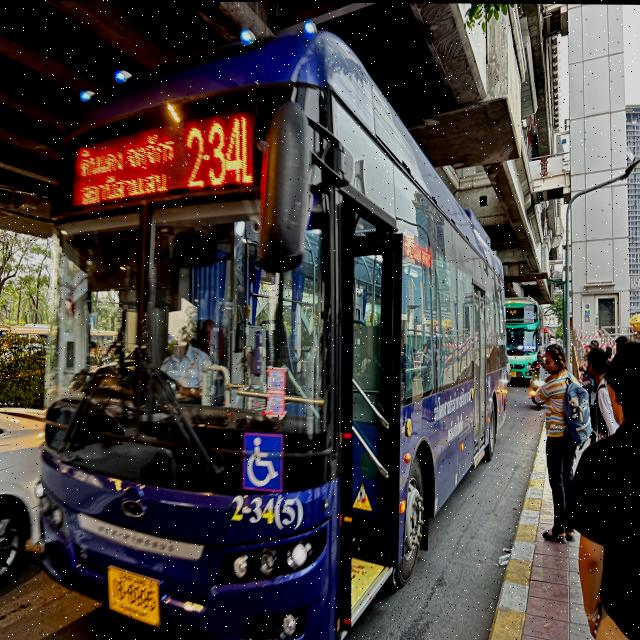Bus Line Number: (183, 109, 260, 197)
Bus Side Number: (226, 492, 310, 530)
Destination Sign: (74, 133, 178, 212)
TSB-Bus: (41, 12, 510, 638)
